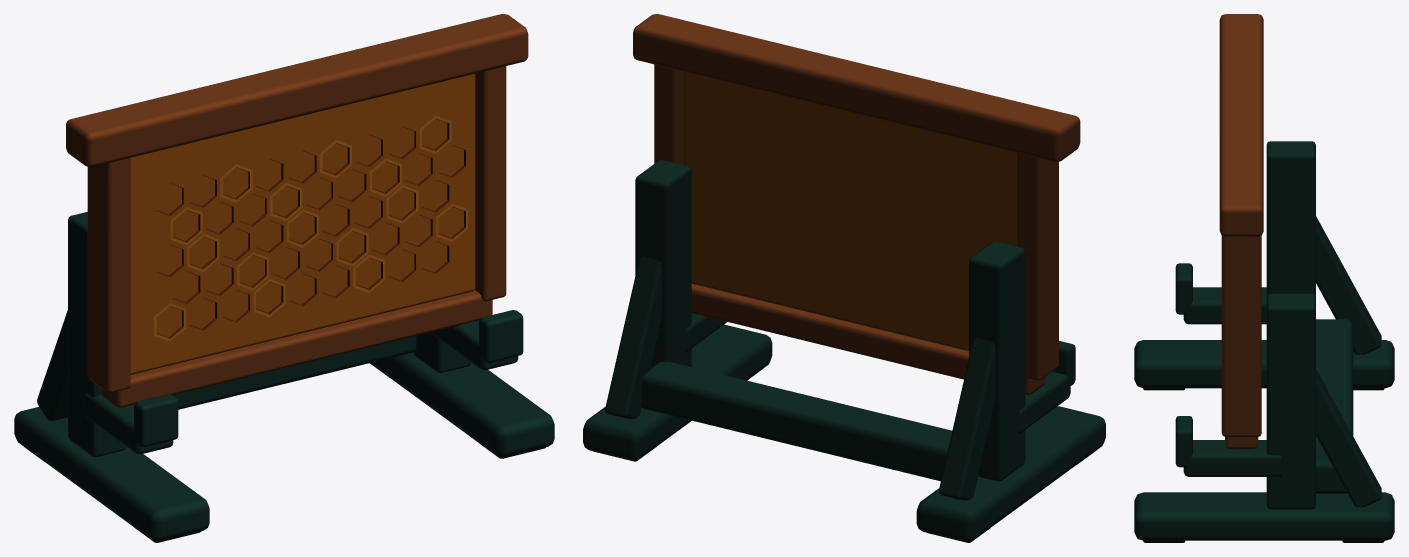
The model's file is frame_rest.fbx.
3 views of the same model, side by side, from view 1: azimuth 30°, elevation 25°; view 2: azimuth 150°, elevation 25°; view 3: azimuth 270°, elevation 25° (orthographic). The views are drawn at different scales.
Parts seen in each view (by area): view 1: Removable comb frame Parts, Stand Parts; view 2: Removable comb frame Parts, Stand Parts; view 3: Stand Parts, Removable comb frame Parts.
Boxes of the visible parts, x1,y1,x2,y2 form: Removable comb frame Parts: (66,14,528,407); Stand Parts: (14,212,554,542); Removable comb frame Parts: (633,14,1080,394); Stand Parts: (583,160,1105,542); Stand Parts: (1134,141,1394,542); Removable comb frame Parts: (1219,14,1263,449).
Size of the model in its own units: 0.347 by 0.287 by 0.195.
